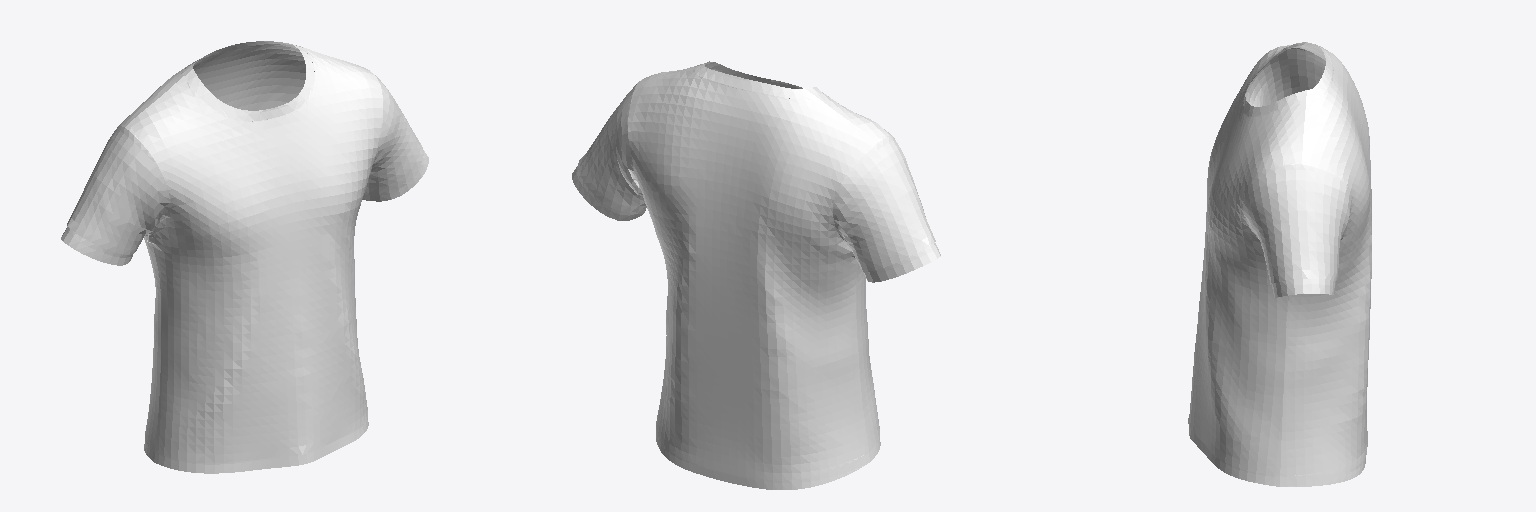
3 renders of one model, left to right at view 1: azimuth 30°, elevation 25°; view 2: azimuth 150°, elevation 25°; view 3: azimuth 270°, elevation 25°, orthographic.
Visible parts, largest first — view 1: textmask_armsleeve_left; view 2: textmask_armsleeve_left; view 3: textmask_armsleeve_left.
Part boxes in pixels (left/top/right/bottom): textmask_armsleeve_left: left=61, top=41, right=428, bottom=473; textmask_armsleeve_left: left=572, top=61, right=940, bottom=489; textmask_armsleeve_left: left=1188, top=42, right=1371, bottom=486.
Size of the model in its own units: 3.33 by 3.41 by 1.47.